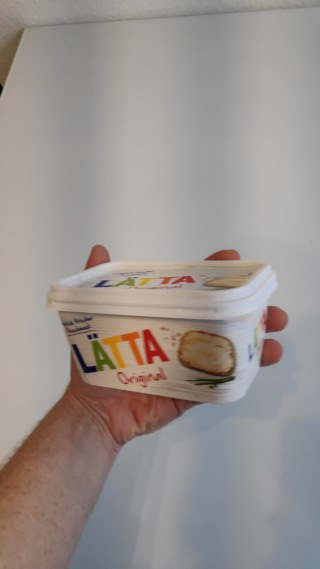laetta: (45, 258, 281, 405)
